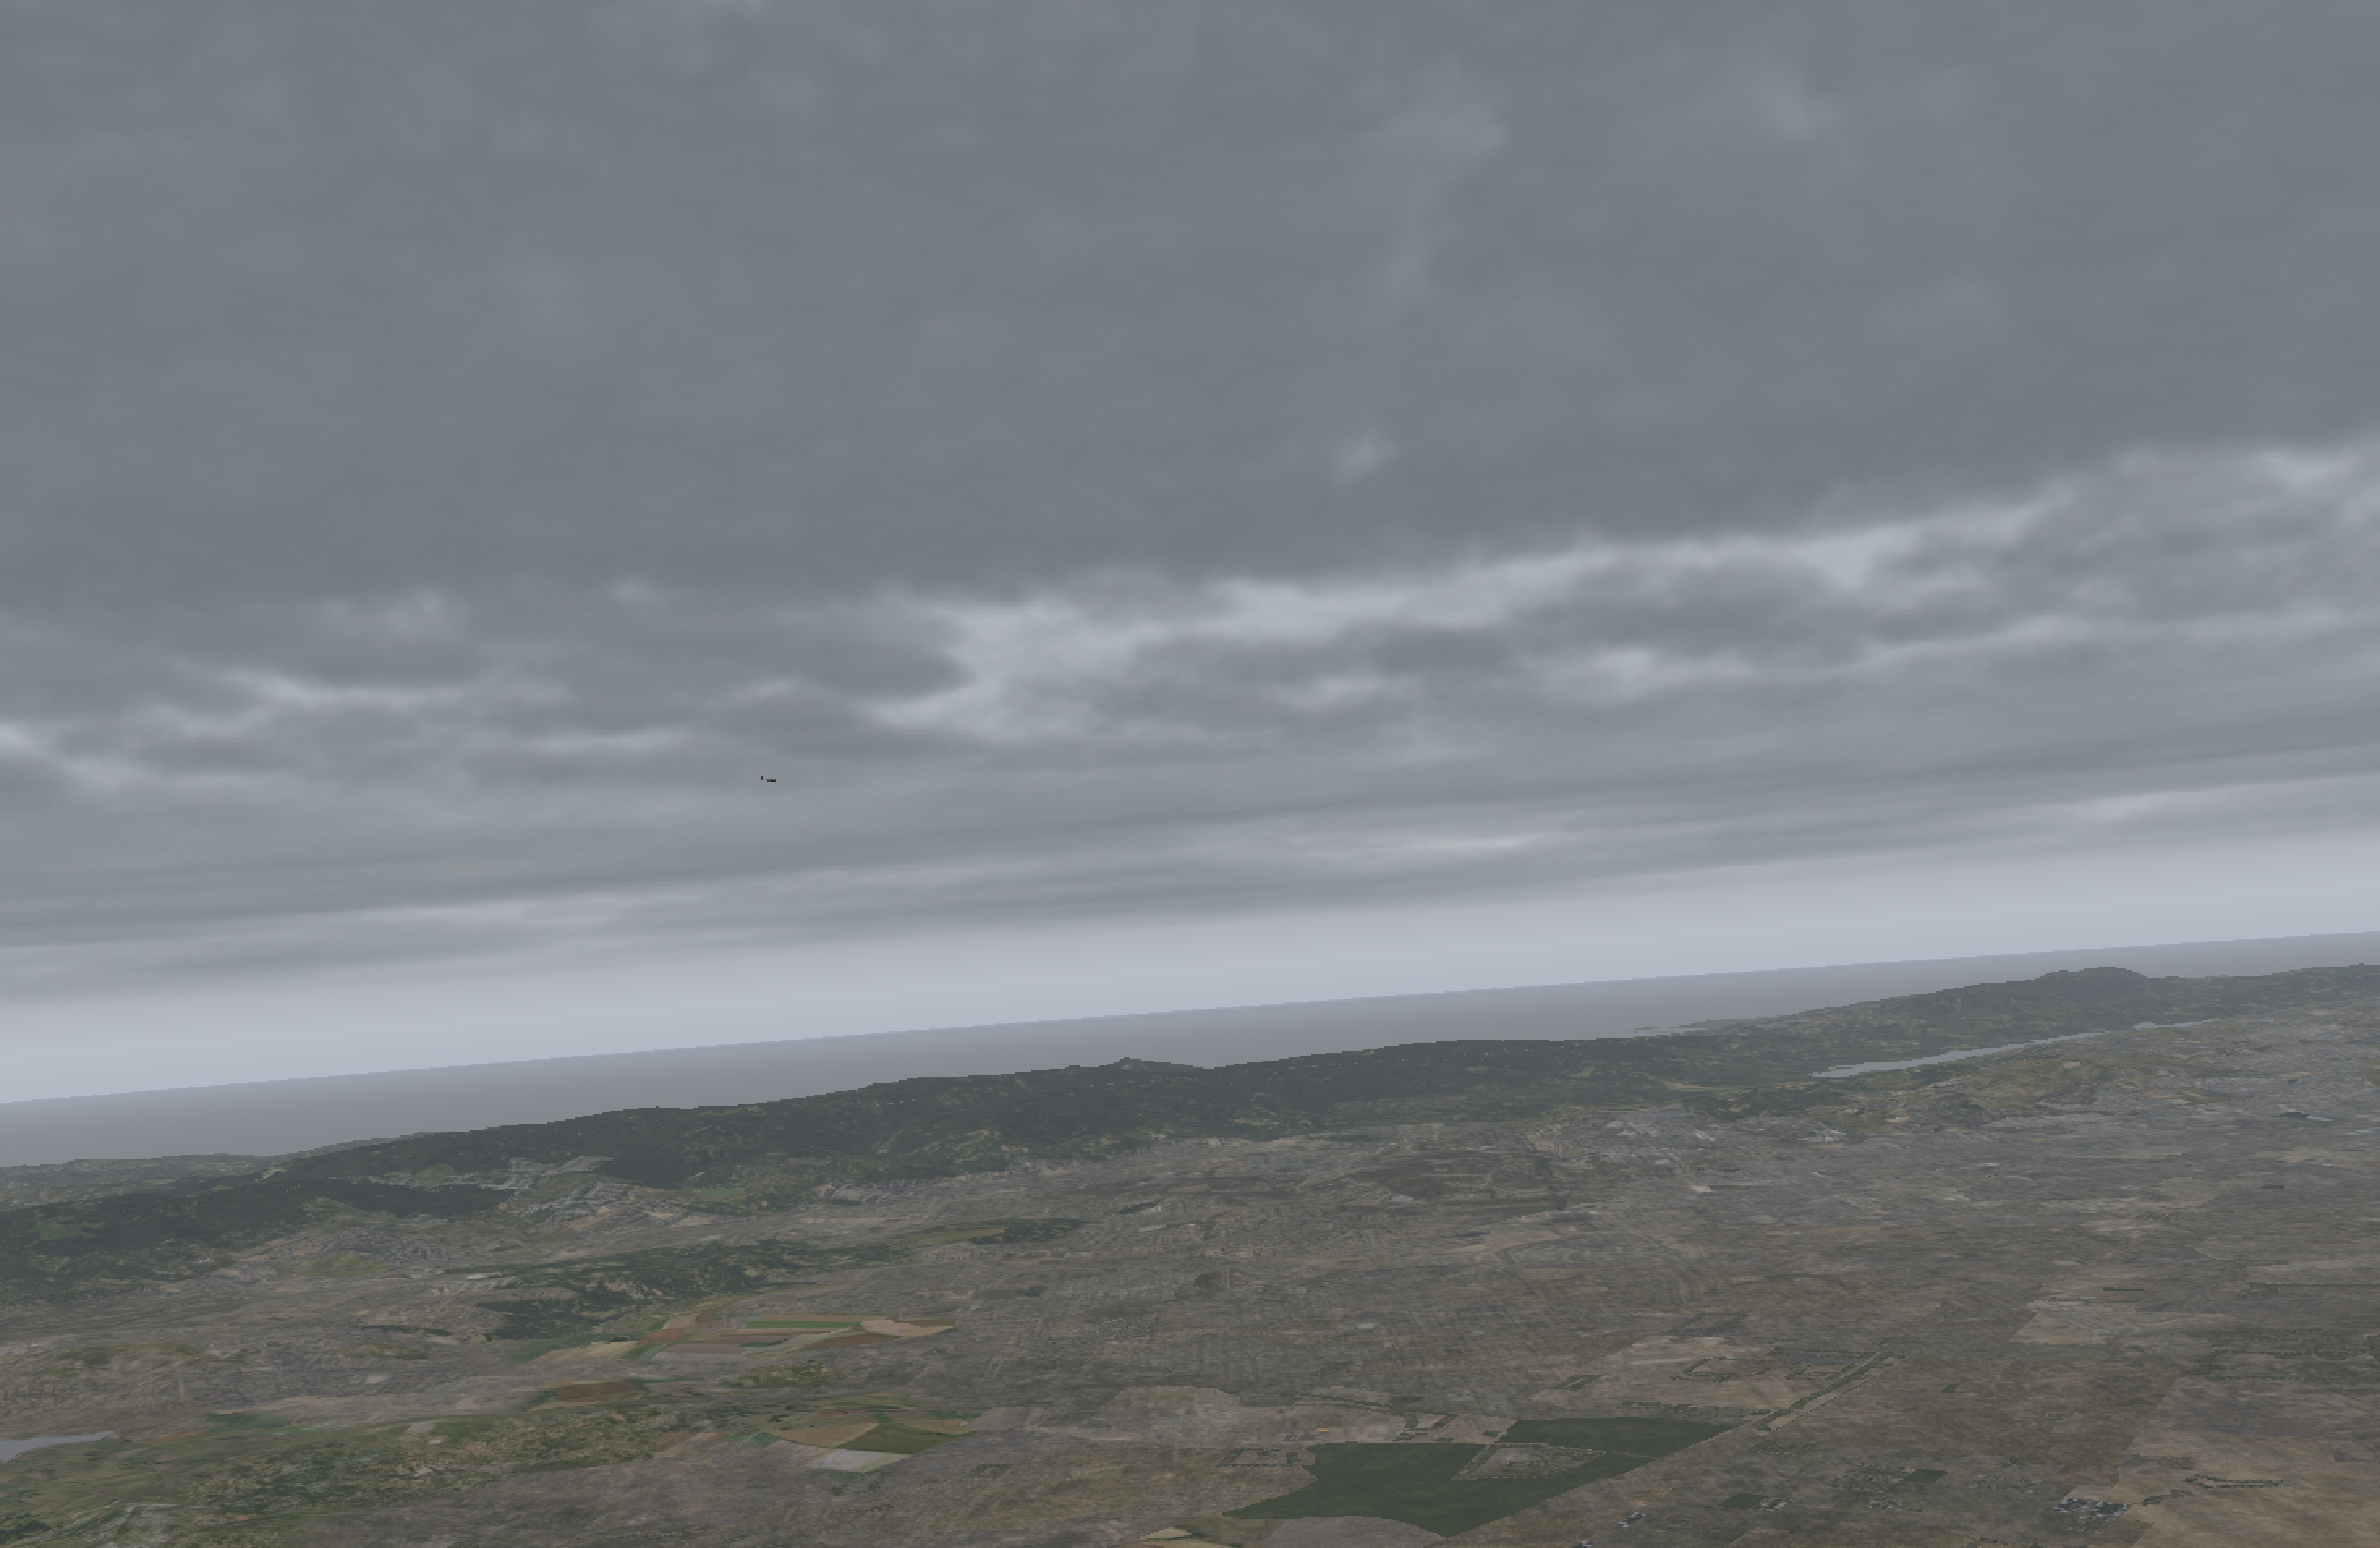aircraft: (758, 776, 784, 786)
